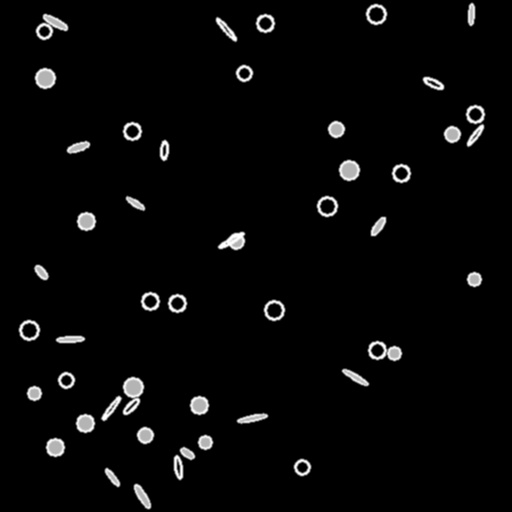pseudomonas: (341, 367, 369, 387), (217, 230, 245, 250), (215, 17, 237, 41), (101, 395, 121, 421), (41, 13, 69, 31), (133, 483, 151, 509), (465, 124, 485, 146), (121, 396, 141, 416), (369, 215, 387, 237), (103, 467, 121, 487), (66, 140, 90, 154), (237, 413, 267, 423), (33, 263, 49, 281), (125, 196, 145, 210), (423, 76, 443, 90), (173, 455, 183, 479), (179, 446, 195, 460), (160, 140, 168, 160), (57, 336, 83, 342), (468, 4, 474, 24)
synechocystis: (36, 69, 54, 87), (124, 378, 142, 396), (265, 301, 283, 319), (367, 5, 385, 23), (340, 161, 358, 179), (20, 321, 38, 339), (318, 197, 336, 215), (77, 415, 93, 431), (369, 342, 385, 358), (47, 439, 63, 455), (124, 123, 140, 139), (257, 15, 273, 31), (467, 106, 483, 122), (142, 293, 158, 309), (191, 397, 207, 413), (393, 165, 409, 181), (169, 295, 185, 311), (78, 213, 94, 229), (37, 24, 51, 38), (329, 122, 343, 136), (295, 460, 309, 474), (59, 373, 73, 387), (445, 127, 459, 141), (237, 66, 251, 80), (138, 428, 152, 442), (229, 234, 243, 248), (28, 387, 40, 399), (199, 436, 211, 448), (388, 347, 400, 359), (468, 273, 480, 285)
